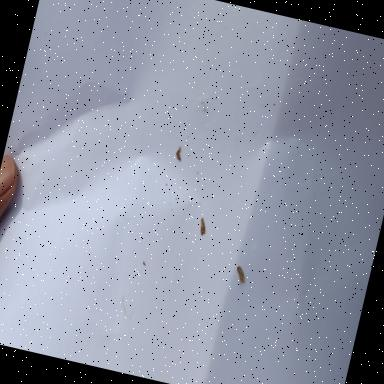pbw: (234, 266, 248, 286)
